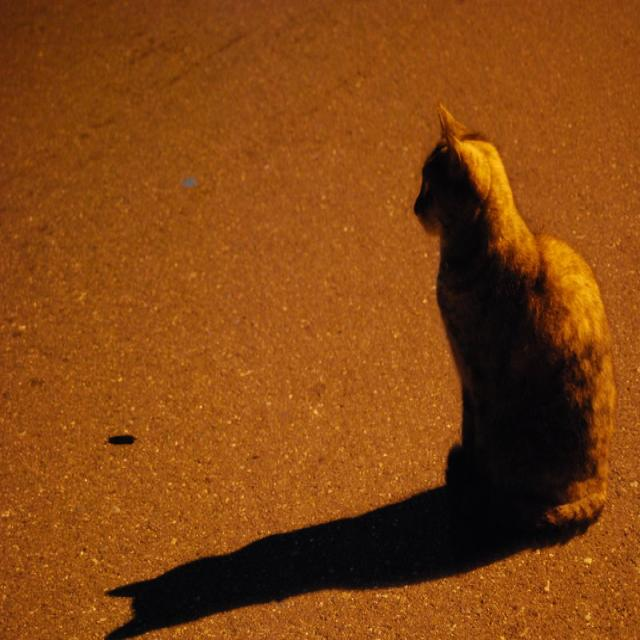Cat: (411, 87, 618, 532)
